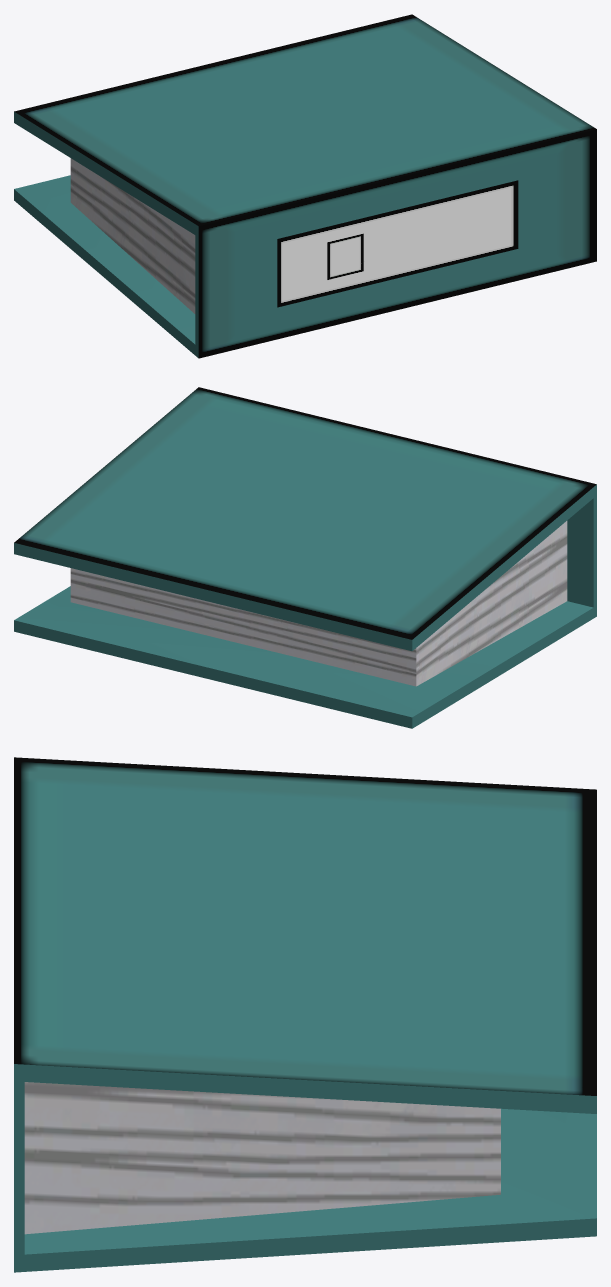
The model's file is Folder_Turquoise_Individual.fbx.
The picture shows the model from 3 angles, top to bottom: view 1: azimuth 30°, elevation 25°; view 2: azimuth 150°, elevation 25°; view 3: azimuth 270°, elevation 25°; orthographic projection. The views are drawn at different scales.
Parts seen in each view (by area): view 1: Folder2; view 2: Folder2; view 3: Folder2.
Part boxes in pixels (box(x1,y1,x2,y2)): Folder2: box(14, 14, 596, 358); Folder2: box(14, 387, 596, 728); Folder2: box(14, 757, 596, 1272).
Size of the model in its own units: 37.28 by 11.83 by 29.96.
